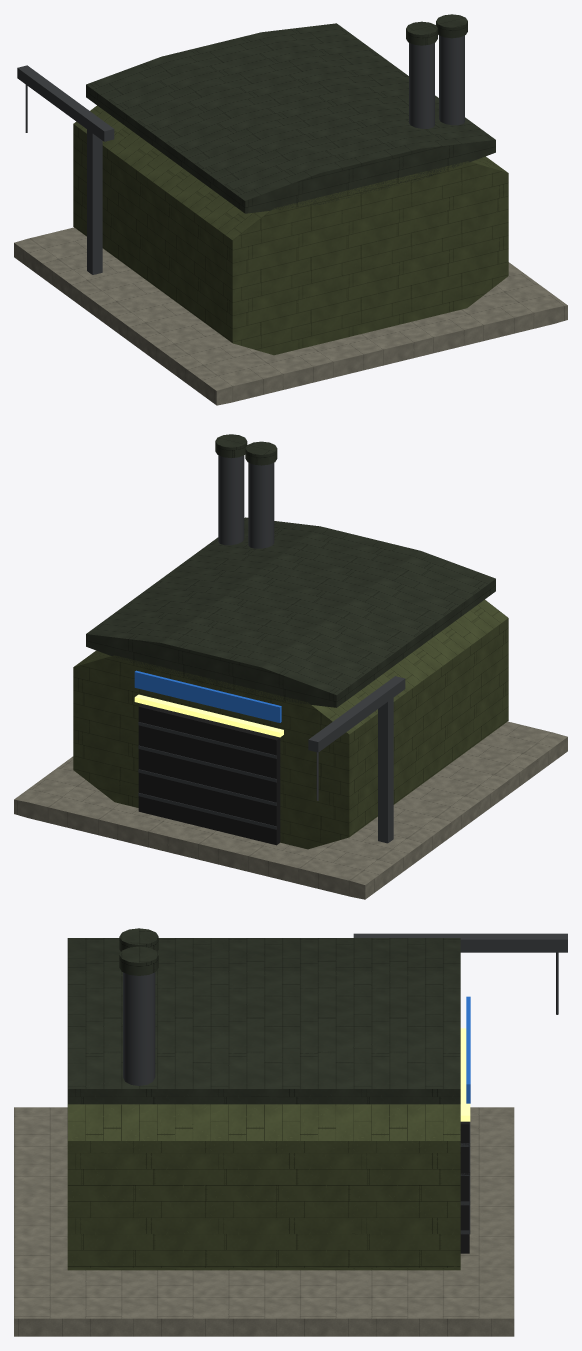
Rendered from militar_fabrica.glb.
The picture shows the model from 3 angles, top to bottom: view 1: azimuth 30°, elevation 25°; view 2: azimuth 150°, elevation 25°; view 3: azimuth 270°, elevation 25°; orthographic projection. The views are drawn at different scales.
Parts seen in each view (by area): view 1: Body_Hull, Body_HullDark, Body_Concrete, Body_Metal; view 2: Body_HullDark, Body_Hull, Body_Concrete, Body_Track, Body_Metal, Body_TeamColor, Body_Glow; view 3: Body_Hull, Body_HullDark, Body_Concrete, Body_Metal, Body_Track, Body_Glow, Body_TeamColor.
Boxes of the visible parts, x1,y1,x2,y2 form: Body_Hull: (73,105,508,355); Body_HullDark: (86,14,495,213); Body_Concrete: (14,227,567,405); Body_Metal: (17,35,464,274); Body_HullDark: (86,434,495,707); Body_Hull: (73,599,508,849); Body_Concrete: (14,721,567,899); Body_Track: (138,704,280,845); Body_Metal: (138,455,405,843); Body_TeamColor: (134,670,281,722); Body_Glow: (134,694,283,737); Body_Hull: (67,1104,460,1270); Body_HullDark: (67,928,460,1104); Body_Concrete: (14,1107,514,1336); Body_Metal: (123,933,567,1234); Body_Track: (460,1121,469,1253); Body_Glow: (460,1028,470,1121); Body_TeamColor: (466,996,470,1103).
Bounding box in the file's own units: 14 × 10.6 × 15.5.
7 materials, 3 textured.
